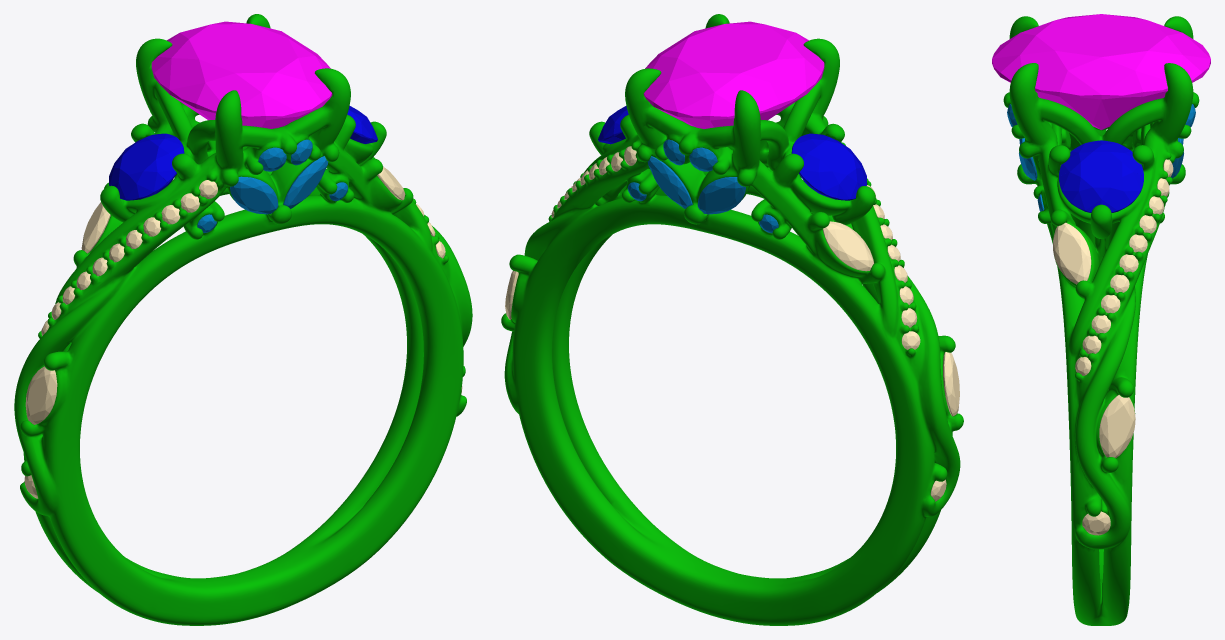
The model's file is BE1D1644_OV_200ct_RENDER.glb.
3 renders of one model, left to right at view 1: azimuth 30°, elevation 25°; view 2: azimuth 150°, elevation 25°; view 3: azimuth 270°, elevation 25°, orthographic.
Parts seen in each view (by area): view 1: Metal 01, CS_Diamond_Oval, Diamond_Round_side, Diamond_Marquise_Gem_SH.003, Diamond_Marquise_Gem_HD, Diamond_Marquise_Gem_HD.001, Diamond_Marquise_Gem_SH, Diamond_Round_side.001; view 2: Metal 01, CS_Diamond_Oval, Diamond_Round_side, Diamond_Marquise_Gem_SH, Diamond_Marquise_Gem_HD.003, Diamond_Marquise_Gem_HD.002, Diamond_Marquise_Gem_SH.003, Diamond_Round_side.001; view 3: Metal 01, CS_Diamond_Oval, Diamond_Round_side.001, Diamond_Marquise_Gem_SH.002, Diamond_Marquise_Gem_SH.001, Diamond_Round_Gem_SH.
Boxes of the visible parts, <box> form: Metal 01: <box>14,14,472,625</box>; CS_Diamond_Oval: <box>151,21,332,128</box>; Diamond_Round_side: <box>109,133,184,200</box>; Diamond_Marquise_Gem_SH.003: <box>25,366,57,424</box>; Diamond_Marquise_Gem_HD: <box>230,176,278,214</box>; Diamond_Marquise_Gem_HD.001: <box>283,156,328,208</box>; Diamond_Marquise_Gem_SH: <box>81,202,110,253</box>; Diamond_Round_side.001: <box>347,106,377,143</box>; Metal 01: <box>501,14,963,625</box>; CS_Diamond_Oval: <box>643,21,824,128</box>; Diamond_Round_side: <box>791,133,866,200</box>; Diamond_Marquise_Gem_SH: <box>823,221,873,271</box>; Diamond_Marquise_Gem_HD.003: <box>697,177,745,214</box>; Diamond_Marquise_Gem_HD.002: <box>647,156,692,208</box>; Diamond_Marquise_Gem_SH.003: <box>943,352,959,416</box>; Diamond_Round_side.001: <box>598,106,628,144</box>; Metal 01: <box>1003,16,1199,625</box>; CS_Diamond_Oval: <box>992,14,1210,129</box>; Diamond_Round_side.001: <box>1059,140,1143,212</box>; Diamond_Marquise_Gem_SH.002: <box>1099,395,1135,458</box>; Diamond_Marquise_Gem_SH.001: <box>1053,222,1091,284</box>; Diamond_Round_Gem_SH: <box>1082,511,1110,535</box>.
Bounding box in the file's own units: 21.4 × 25.72 × 9.
